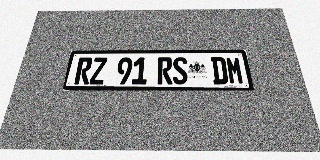1: (131, 57, 147, 84)
9: (116, 57, 133, 84)
D: (210, 57, 229, 84)
M: (225, 57, 245, 84)
R: (74, 57, 93, 84), (157, 57, 172, 84)
S: (172, 57, 188, 84)
Z: (89, 57, 107, 84)
